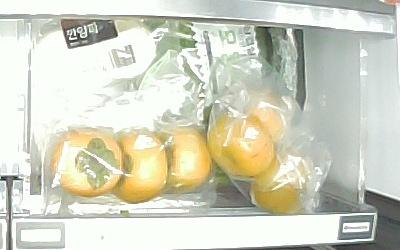persimmon_vinyl: (50, 128, 122, 198), (208, 112, 276, 179), (254, 153, 314, 216), (119, 130, 166, 203), (166, 130, 211, 196), (247, 91, 286, 141)
